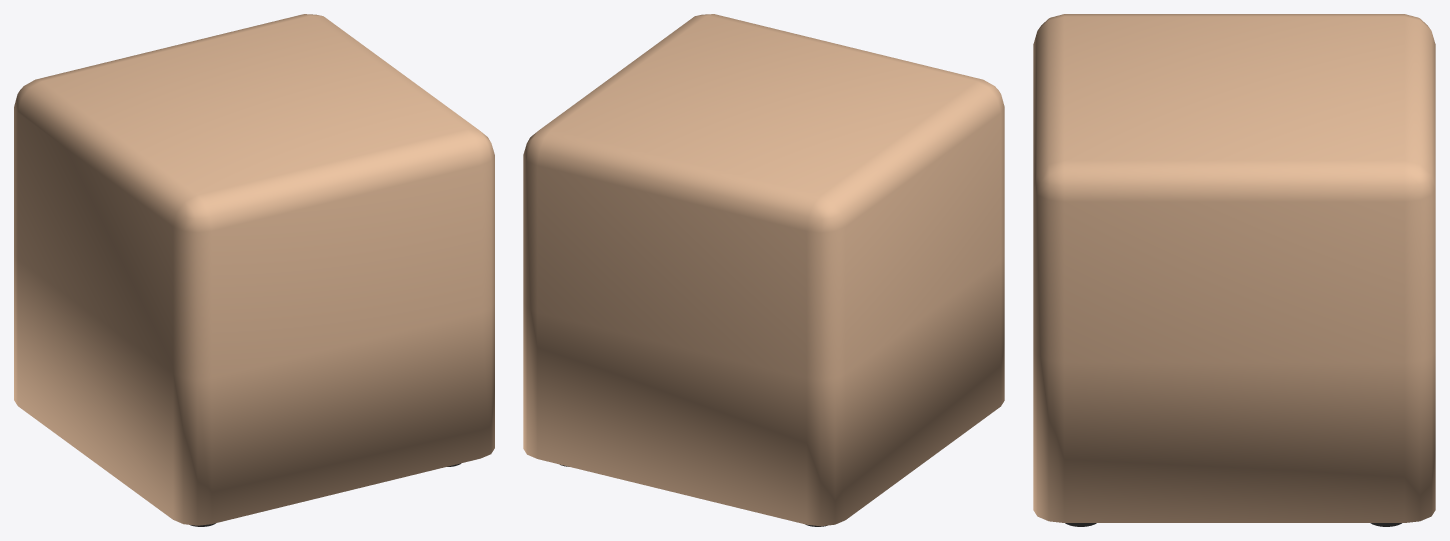
The model's file is banco.glb.
3 views of the same model, side by side, from view 1: azimuth 30°, elevation 25°; view 2: azimuth 150°, elevation 25°; view 3: azimuth 270°, elevation 25° (orthographic). The views are drawn at different scales.
Parts seen in each view (by area): view 1: Cube; view 2: Cube; view 3: Cube.
Boxes of the visible parts, left/top/right/bottom form: Cube: left=14, top=14, right=494, bottom=526; Cube: left=523, top=14, right=1004, bottom=526; Cube: left=1033, top=14, right=1435, bottom=526.
Size of the model in its own units: 2 by 2 by 2.
